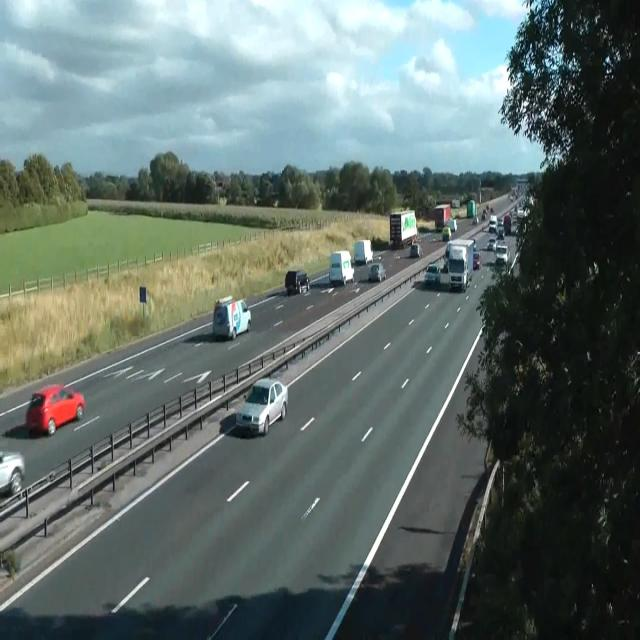bus: (25, 384, 85, 436), (0, 450, 25, 497), (424, 262, 440, 286), (368, 263, 386, 283), (410, 242, 422, 258), (473, 252, 481, 270), (486, 237, 496, 251), (472, 215, 478, 225)
jeep: (235, 377, 288, 436), (212, 294, 252, 340), (284, 268, 310, 294), (494, 242, 508, 266), (488, 214, 497, 232), (442, 226, 452, 241)
minibus: (444, 238, 474, 291), (389, 210, 417, 249), (329, 250, 354, 286), (354, 239, 372, 265), (434, 203, 451, 229), (466, 199, 476, 218), (446, 218, 457, 232), (452, 199, 460, 208)
